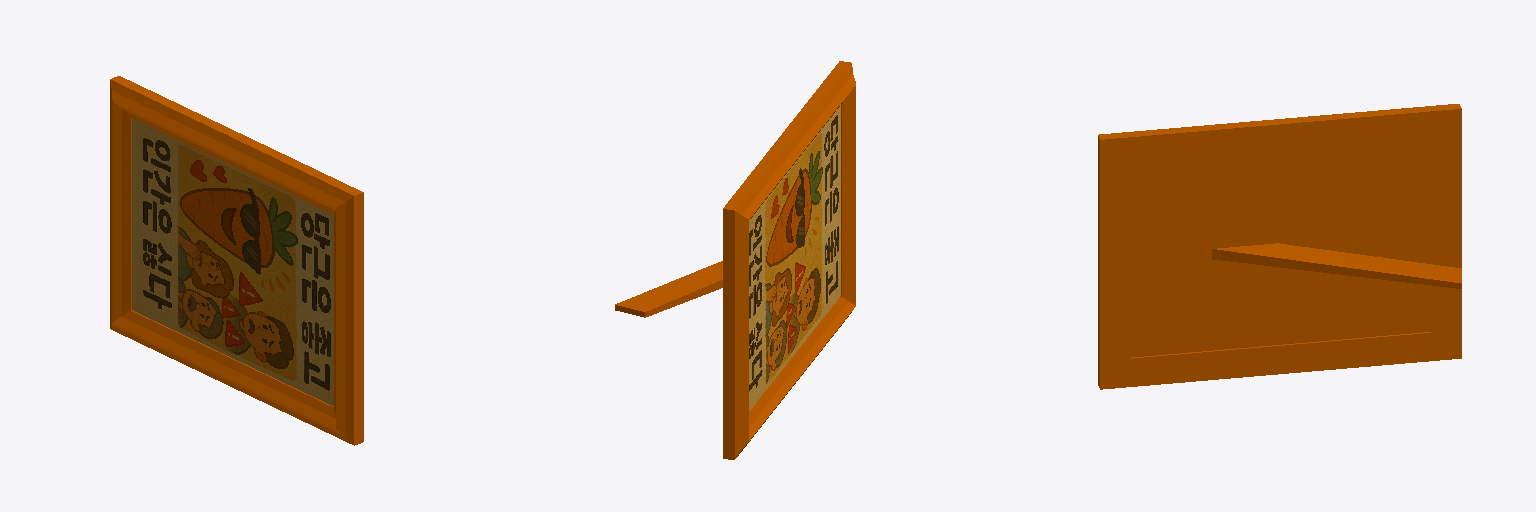
3 renders of one model, left to right at view 1: azimuth 30°, elevation 25°; view 2: azimuth 150°, elevation 25°; view 3: azimuth 270°, elevation 25°, orthographic.
Parts seen in each view (by area): view 1: Cube; view 2: Cube; view 3: Cube.
Boxes of the visible parts, <box> form: Cube: <box>110,76,363,445</box>; Cube: <box>615,61,855,459</box>; Cube: <box>1098,104,1461,389</box>.
Bounding box in the file's own units: 0.4936 × 0.9451 × 1.25.
Materials: 3 (1 with a texture image).